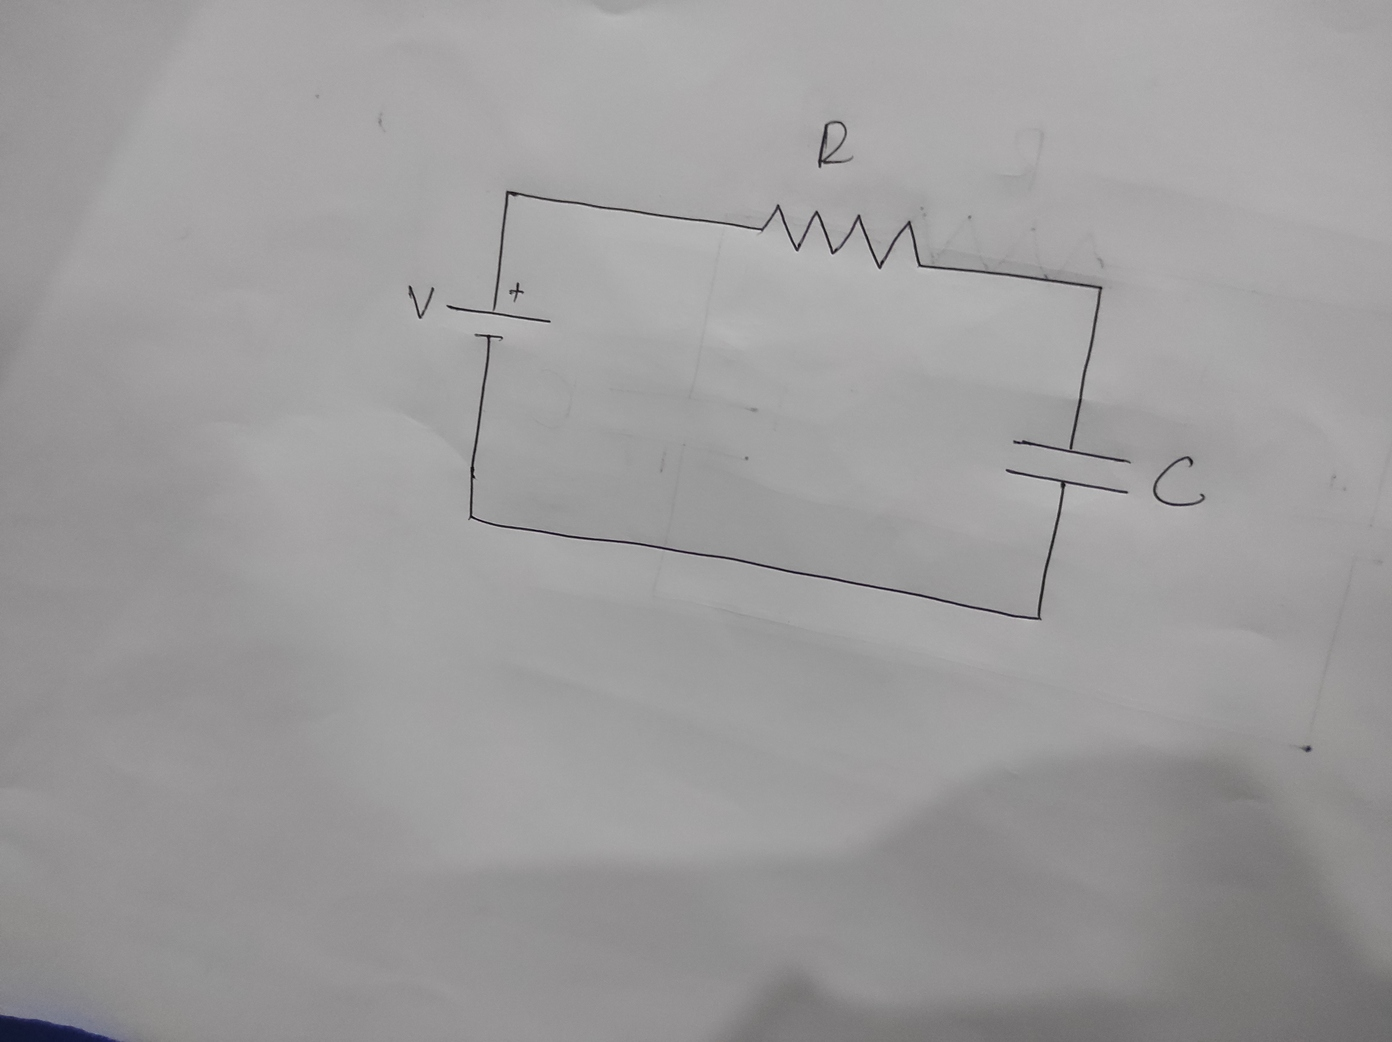capacitor.unpolarized: (1000, 433, 1140, 497)
junction: (460, 503, 482, 526), (498, 183, 519, 204), (1090, 280, 1107, 296), (1030, 611, 1047, 626)
resistor: (754, 194, 932, 276)
text: (1150, 454, 1207, 508), (812, 112, 857, 170), (405, 281, 438, 322)
voltage.dc: (442, 278, 553, 344)
